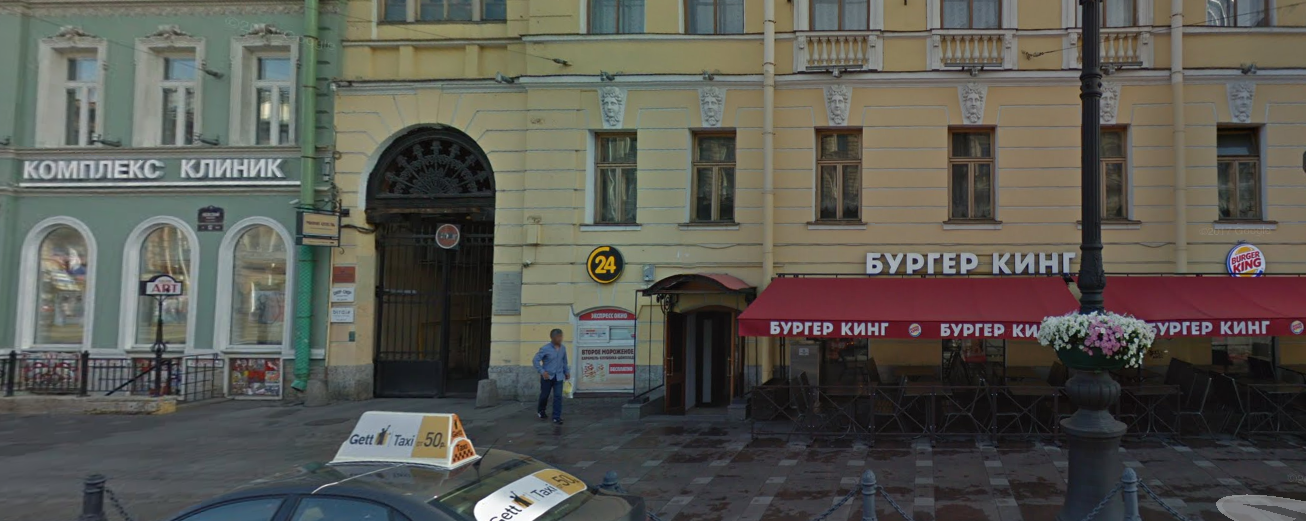arch: (357, 115, 499, 402)
cantilever: (288, 192, 360, 258)
signboard: (18, 155, 291, 187), (864, 243, 1075, 279), (577, 234, 629, 289), (1217, 234, 1269, 279)
window: (949, 124, 999, 226), (1215, 122, 1263, 222), (815, 131, 865, 223), (150, 55, 200, 143), (61, 49, 104, 144), (689, 130, 734, 215), (595, 133, 638, 221), (257, 55, 293, 139), (1099, 127, 1132, 218)
